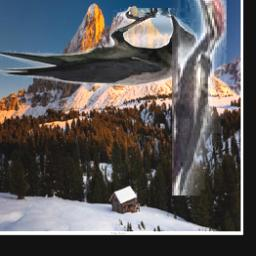Crow: (0, 9, 198, 87)
Woodpecker: (172, 0, 227, 195)
